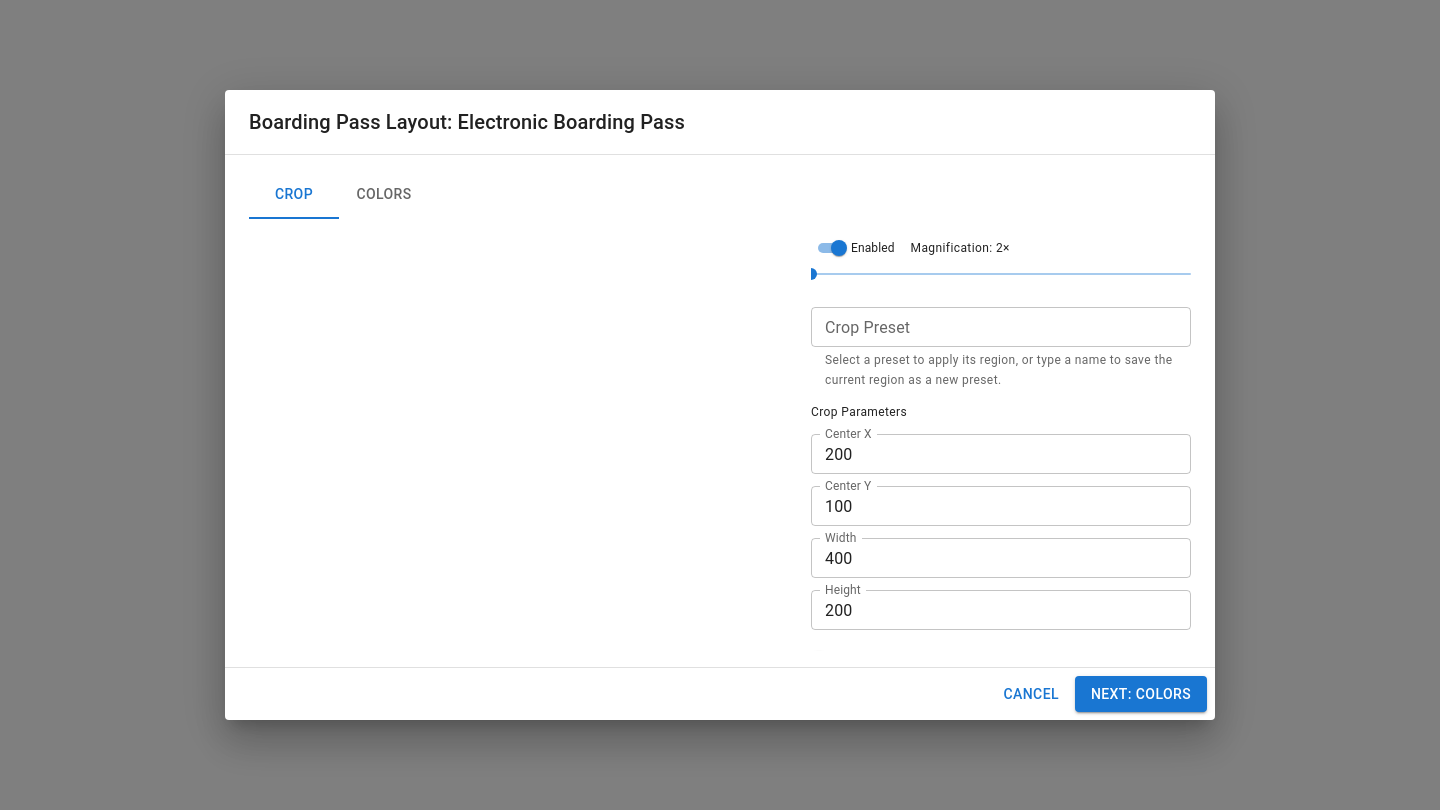
Test case: ElectronicBoardingPassStudio › uses an authoritative named layout and removes an orphaned browser preset
The image size is (1440, 810).
Press the mouse on the dropdown labelled "Crop Preset" at (1000, 327), box [817,313,1182,341]
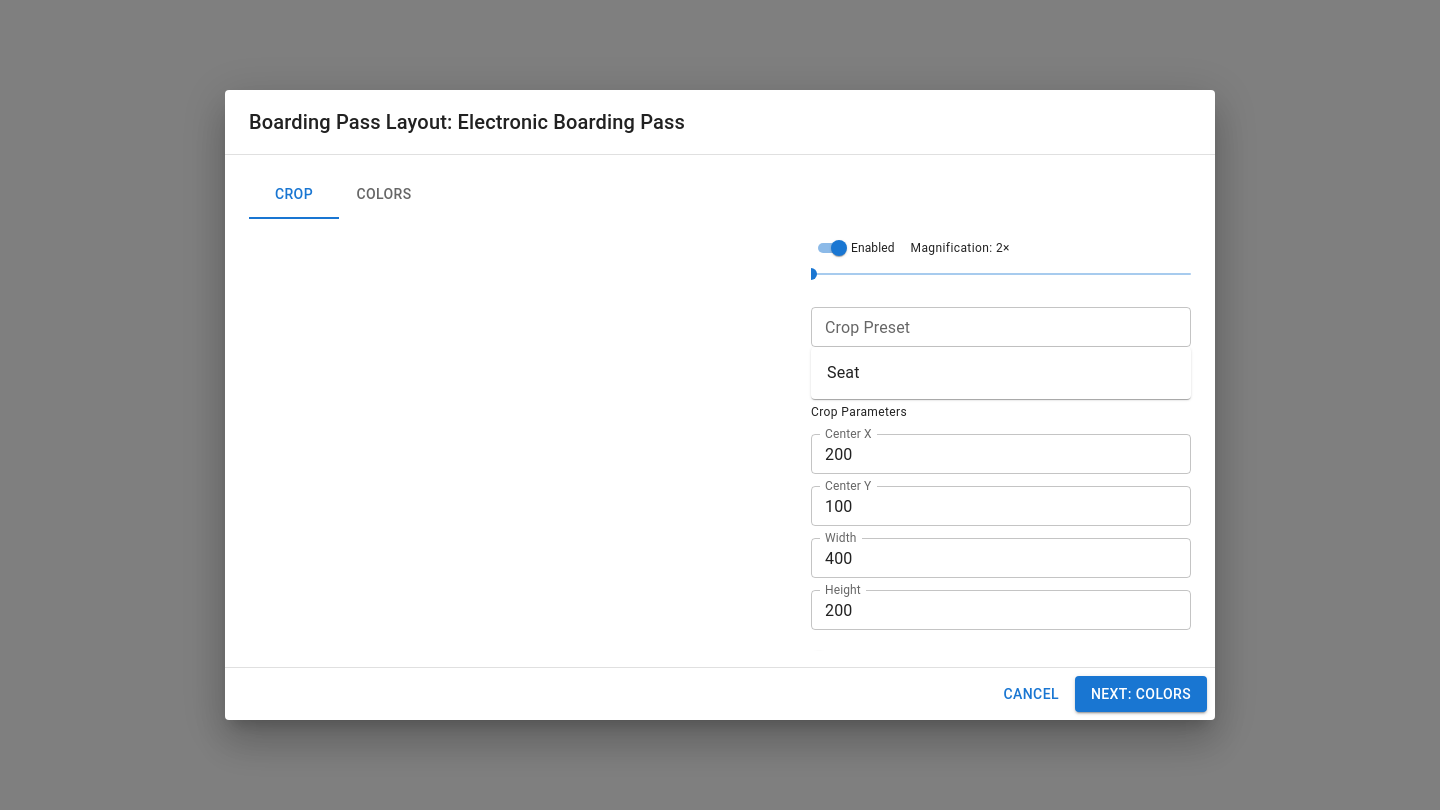
Click the option "Seat". click: (843, 372)
box: [827,363,860,382]
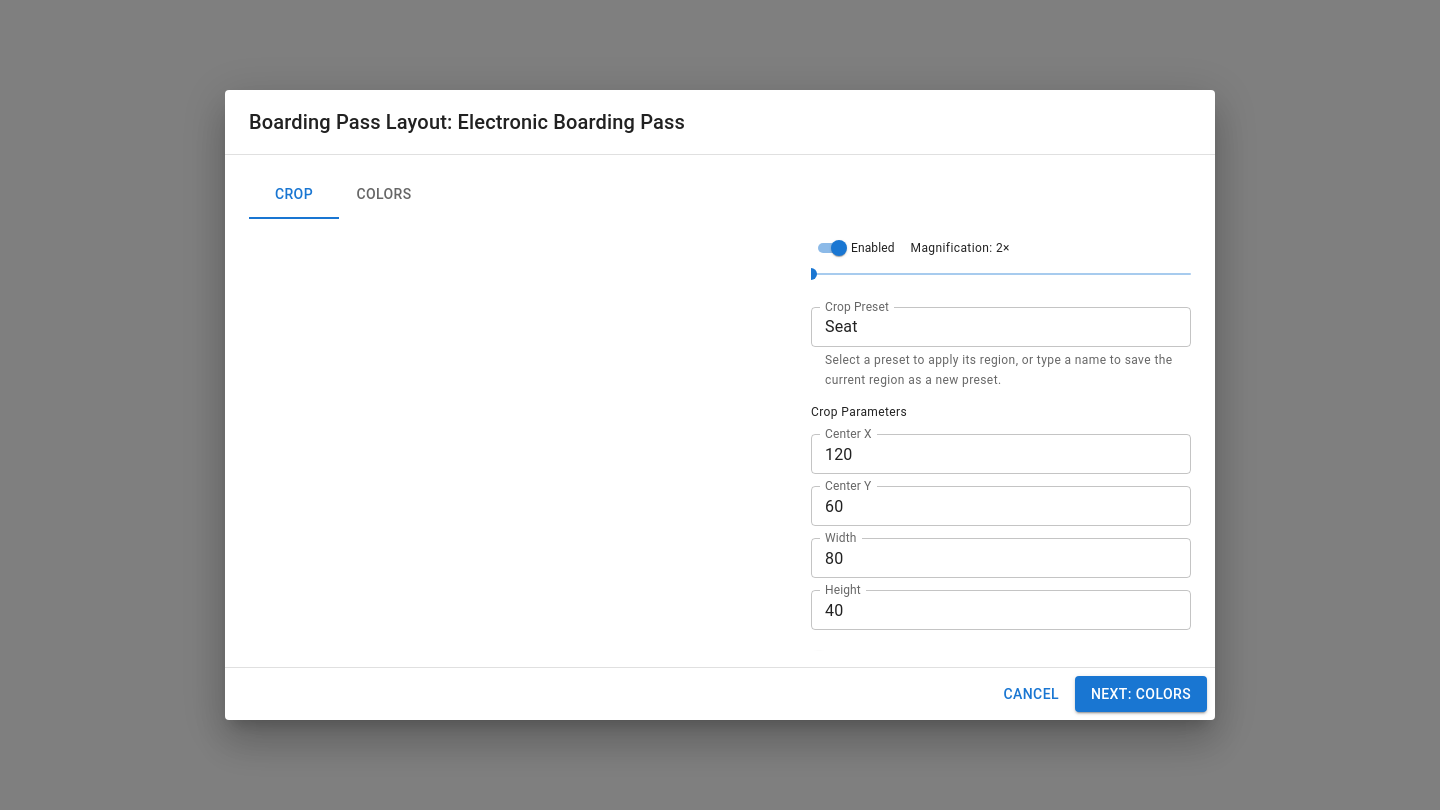
Expected: the number field labelled "Center X" holds "120", [811,434,1191,474]
Expected: the number field labelled "Center Y" holds "60", [811,486,1191,526]
Expected: the number field labelled "Width" holds "80", [811,538,1191,578]
